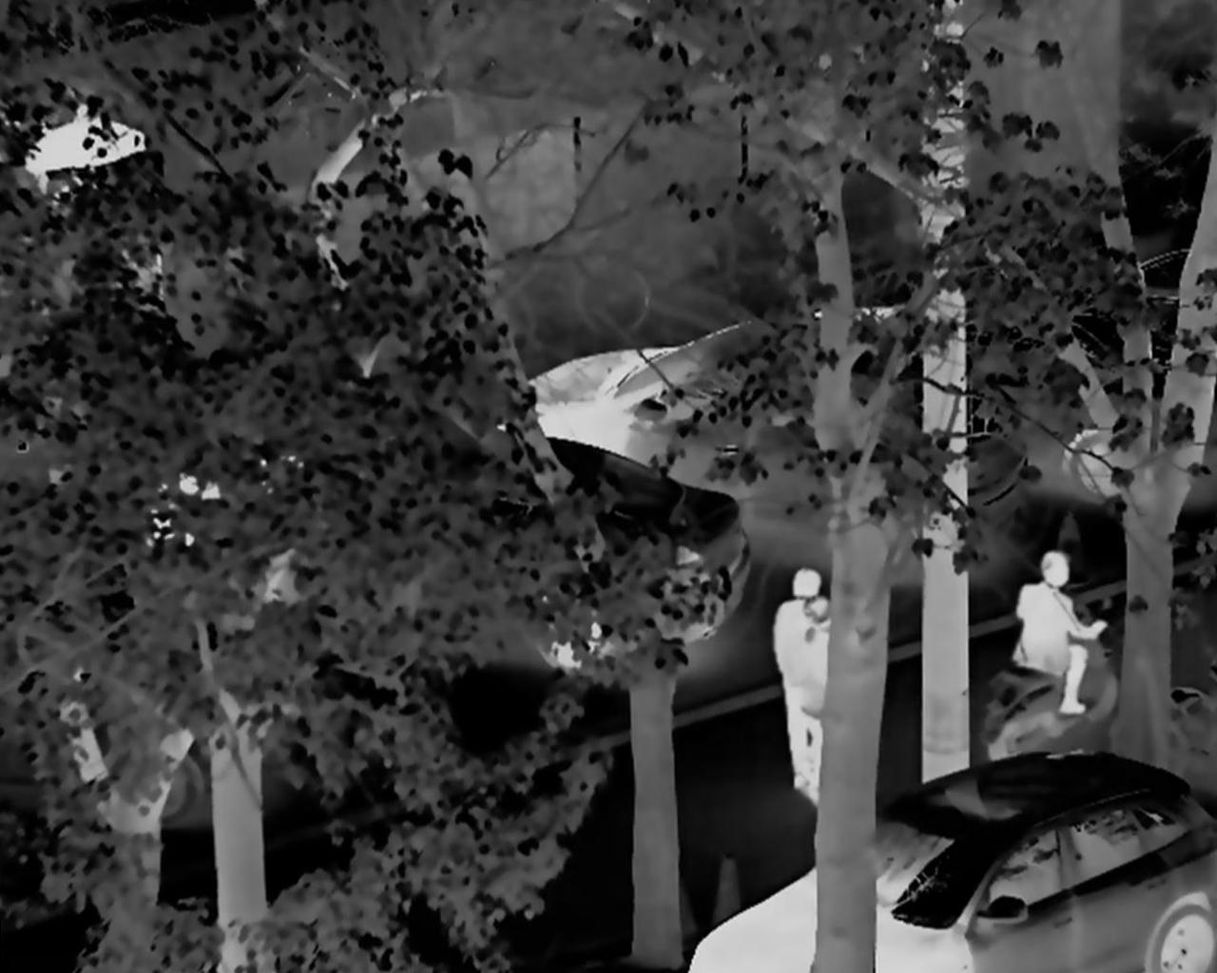person: (761, 556, 852, 801), (1009, 540, 1114, 735)
